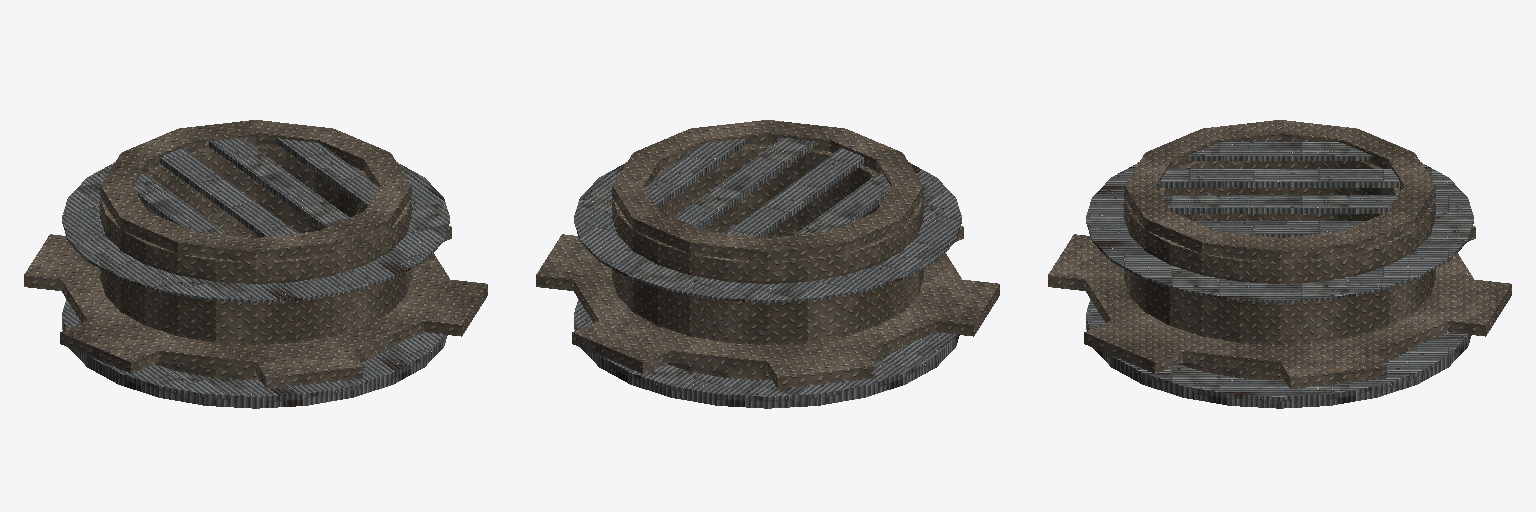
The picture shows the model from 3 angles: view 1: azimuth 30°, elevation 25°; view 2: azimuth 150°, elevation 25°; view 3: azimuth 270°, elevation 25°; orthographic projection.
Visible parts, largest first — view 1: mergedBlocks; view 2: mergedBlocks; view 3: mergedBlocks.
Boxes of the visible parts, x1=… form: mergedBlocks: x1=24, y1=120, x2=487, y2=408; mergedBlocks: x1=536, y1=120, x2=999, y2=408; mergedBlocks: x1=1048, y1=120, x2=1511, y2=408.
Size of the model in its own units: 3.58 by 1.2 by 3.58.
Materials: 2 (2 with a texture image).